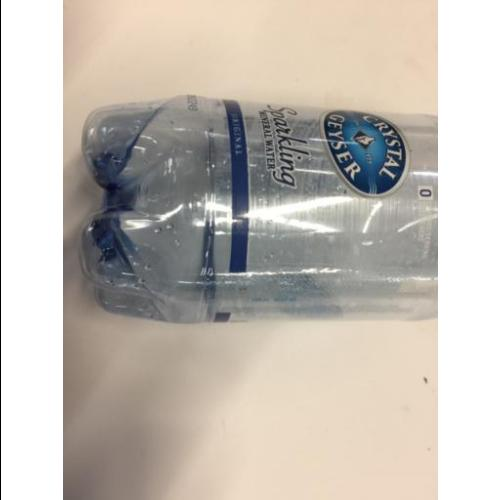plastic: (83, 95, 441, 322)
